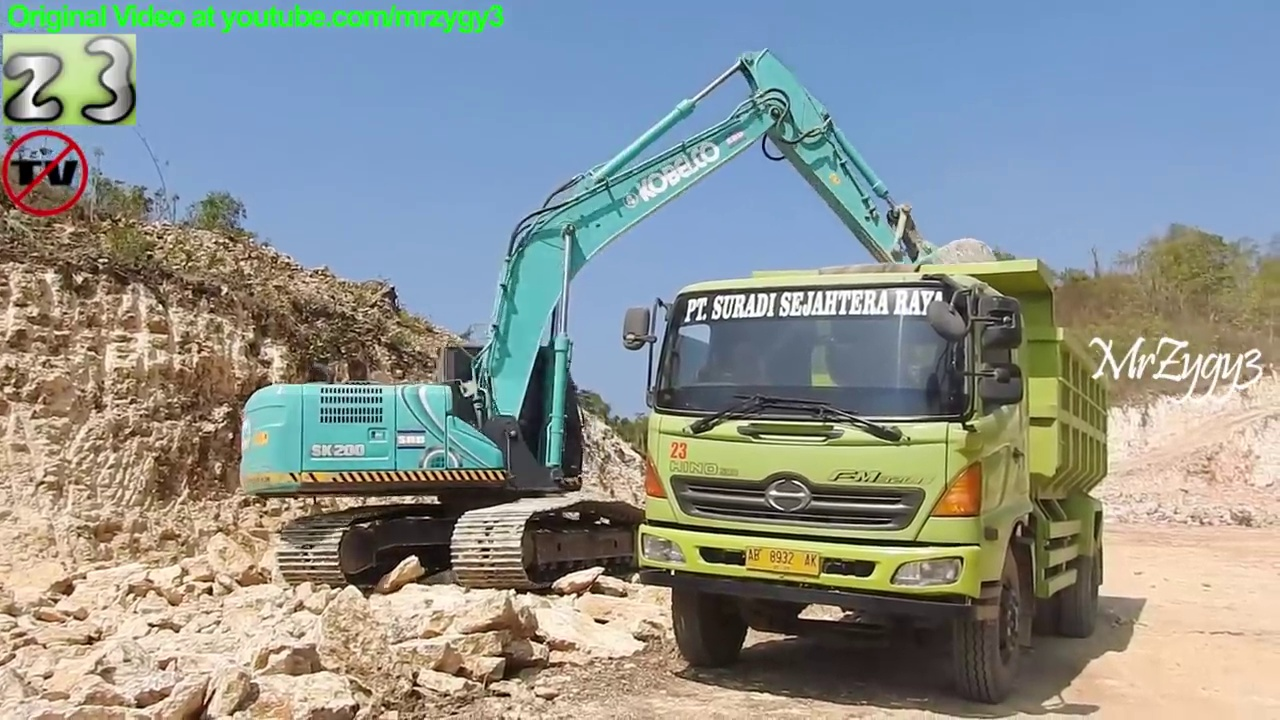excavator: (231, 41, 1055, 603)
truck: (616, 252, 1117, 709)
